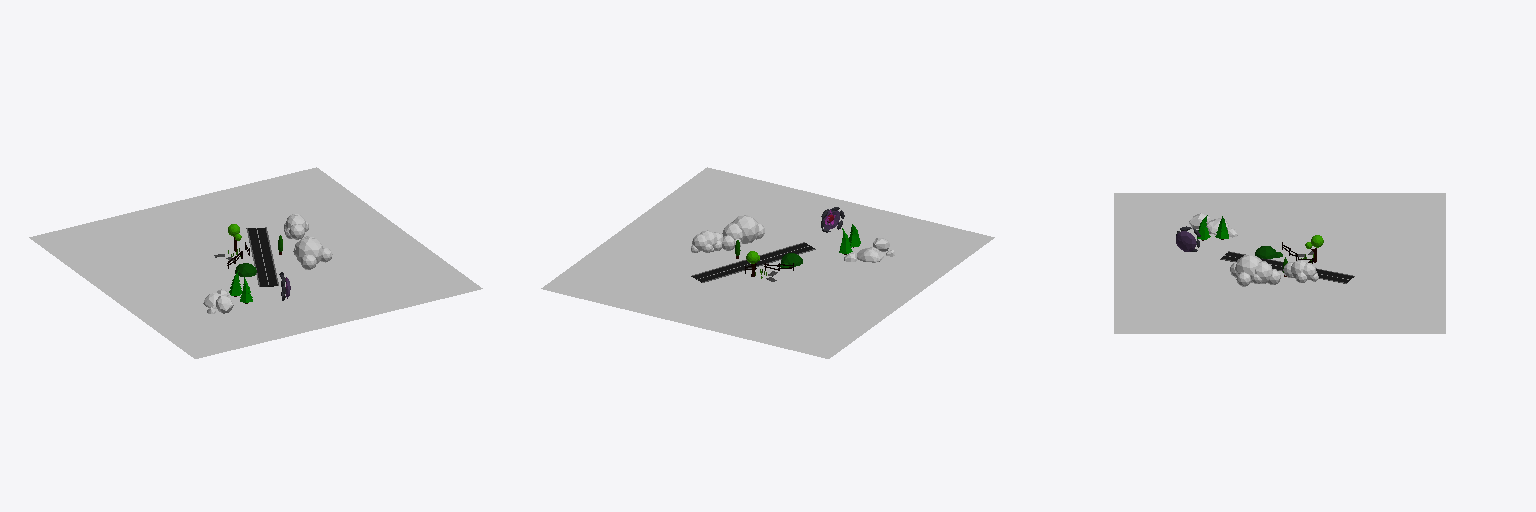
The model's file is Low-Poly_Models.obj.
3 renders of one model, left to right at view 1: azimuth 30°, elevation 25°; view 2: azimuth 150°, elevation 25°; view 3: azimuth 270°, elevation 25°, orthographic.
Parts seen in each view (by area): view 1: Plane, Cube.016; view 2: Plane, Cube.016; view 3: Plane, Cube.016.
Boxes of the visible parts, <box> form: Plane: <box>29,167,482,358</box>; Cube.016: <box>246,227,278,286</box>; Plane: <box>541,167,994,358</box>; Cube.016: <box>691,242,815,282</box>; Plane: <box>1114,193,1445,333</box>; Cube.016: <box>1220,251,1354,283</box>.
Bounding box in the file's own units: 47.02 × 6.32 × 47.02.